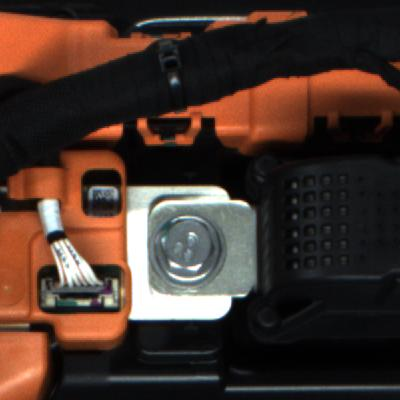nut_b: (147, 213, 234, 293)
